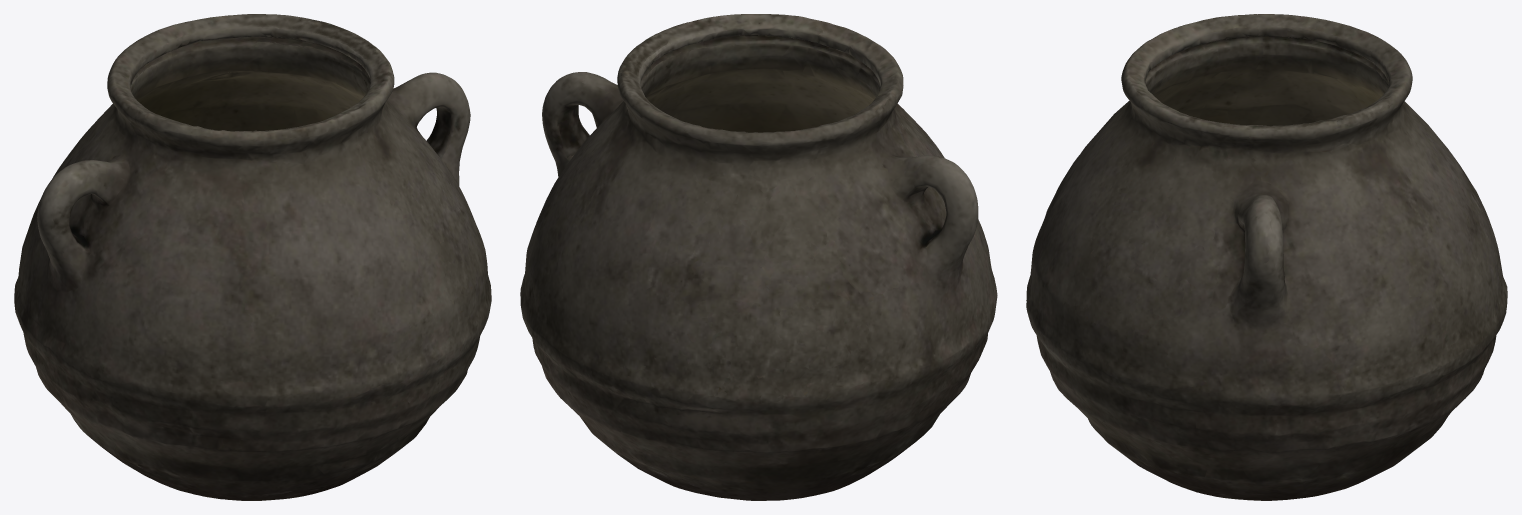
Rendered from weathered-handled-pot.glb.
The picture shows the model from 3 angles, left to right: view 1: azimuth 30°, elevation 25°; view 2: azimuth 150°, elevation 25°; view 3: azimuth 270°, elevation 25°; orthographic projection.
Parts seen in each view (by area): view 1: world; view 2: world; view 3: world.
Part boxes in pixels (x1,y1,x2,y2): world: (14,14,491,500); world: (520,14,997,500); world: (1026,14,1507,500).
Size of the model in its own units: 1 by 0.842 by 0.9655.
Materials: 1 (1 with a texture image).
